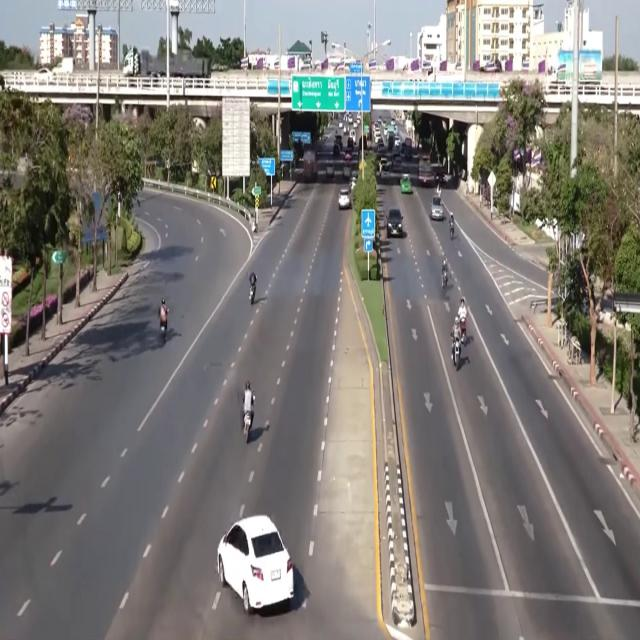car: (218, 515, 293, 613), (386, 208, 404, 238), (430, 196, 444, 220), (339, 189, 350, 209), (400, 175, 412, 193), (380, 162, 389, 178), (344, 148, 353, 162), (343, 164, 351, 179), (326, 163, 334, 178), (377, 139, 385, 153), (335, 135, 342, 150), (333, 144, 340, 158), (347, 137, 354, 150), (350, 176, 356, 191), (349, 129, 355, 140)
scooty: (243, 412, 252, 443), (452, 337, 460, 369), (460, 319, 466, 344), (161, 323, 166, 344), (250, 285, 255, 304), (442, 272, 447, 289), (450, 224, 454, 239)
truck: (123, 49, 166, 77), (548, 50, 573, 84), (418, 157, 434, 186), (303, 149, 317, 182)
